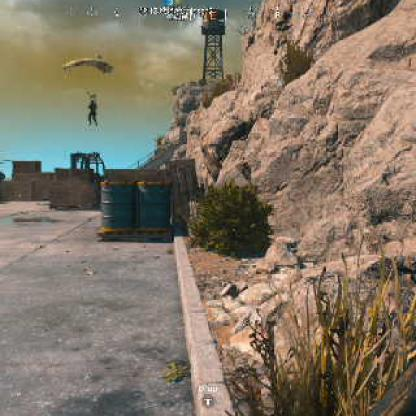enemy: (86, 98, 99, 126)
